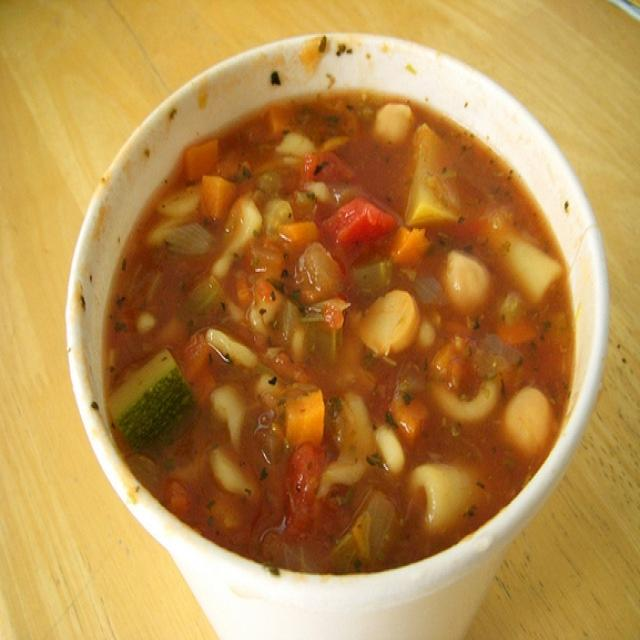汤锅炖物: (48, 23, 583, 610)
